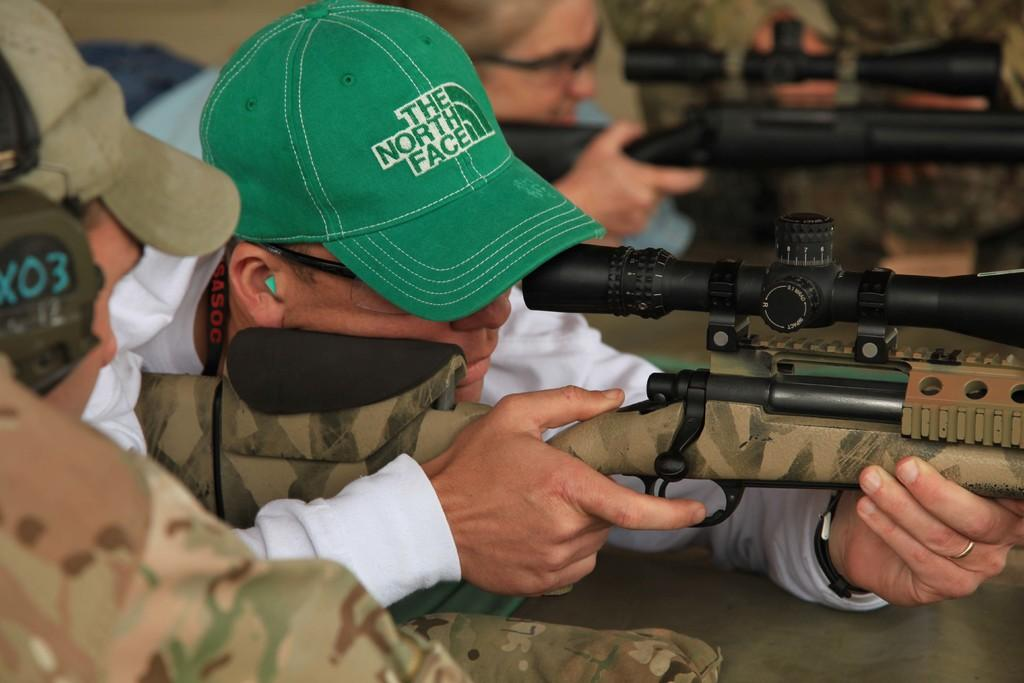Shotgun: (516, 208, 1023, 534), (492, 14, 1012, 191)
